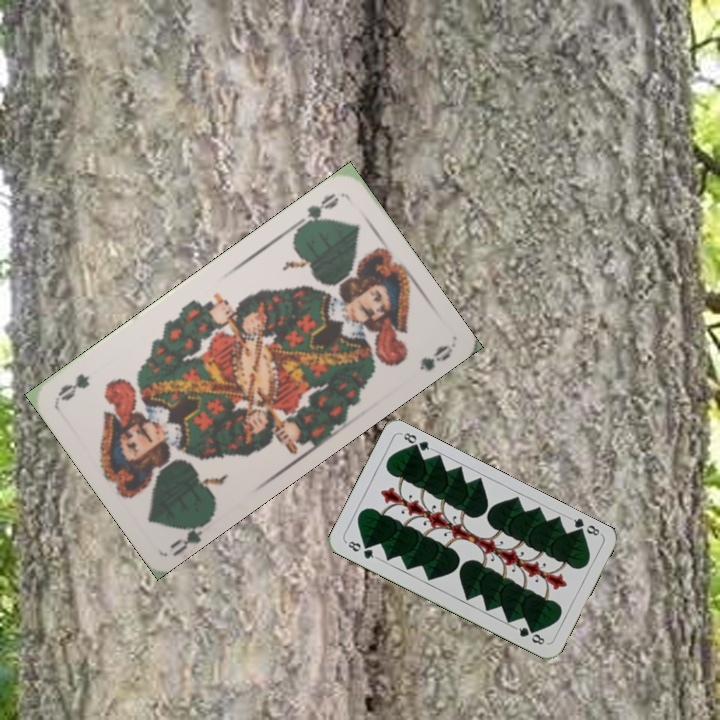G8: (566, 513, 604, 539), (342, 537, 380, 561)
GO: (290, 188, 342, 232), (165, 512, 215, 556)
